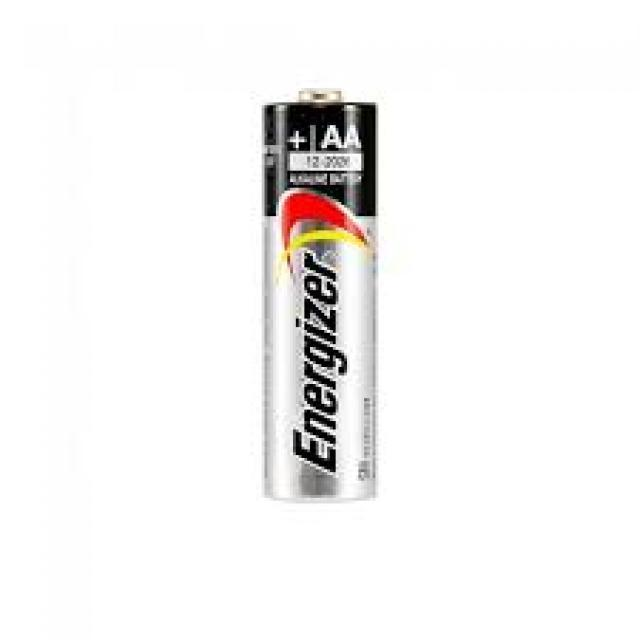battery: (262, 76, 379, 497)
